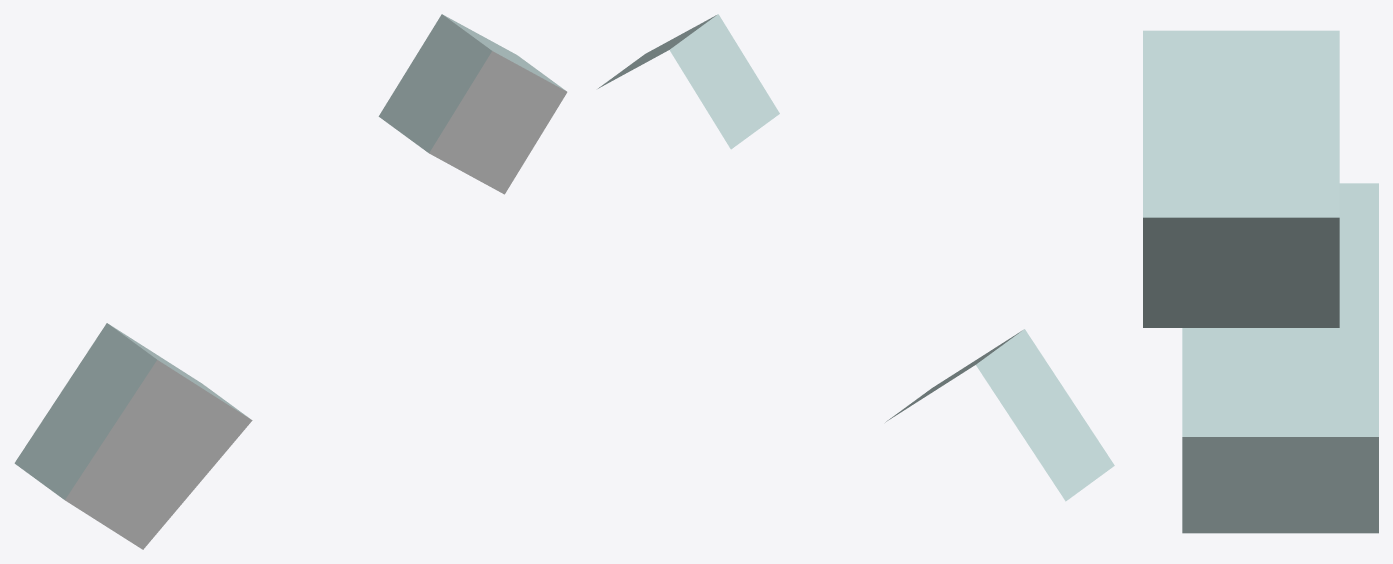
3 renders of one model, left to right at view 1: azimuth 30°, elevation 25°; view 2: azimuth 150°, elevation 25°; view 3: azimuth 270°, elevation 25°, orthographic. The views are drawn at different scales.
Visible parts, largest first — view 1: 0_1_2_1_1_3_0_1_2; view 2: 0_1_2_1_1_3_0_1_2; view 3: 0_1_2_1_1_3_0_1_2.
Part boxes in pixels (left/top/right/bottom): 0_1_2_1_1_3_0_1_2: left=14, top=14, right=567, bottom=549; 0_1_2_1_1_3_0_1_2: left=598, top=14, right=1114, bottom=501; 0_1_2_1_1_3_0_1_2: left=1143, top=30, right=1378, bottom=533.
Size of the model in its own units: 16.91 by 13.9 by 3.6.
